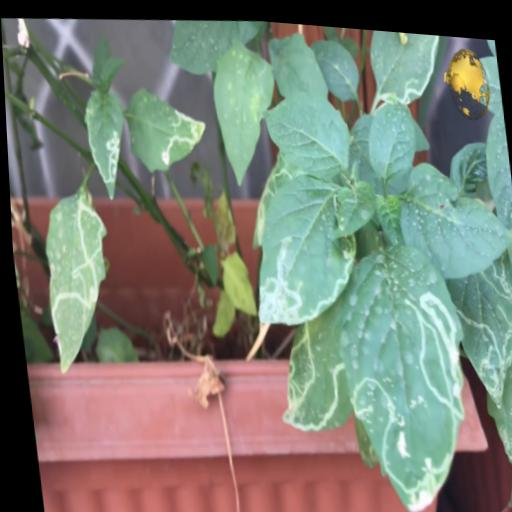Healthy: (257, 83, 352, 179)
Leaf_Miner: (320, 226, 480, 512), (238, 159, 364, 329), (32, 179, 119, 378), (263, 290, 353, 435), (436, 237, 512, 406), (120, 76, 211, 176), (363, 23, 448, 104), (238, 144, 304, 246), (79, 84, 131, 200)
